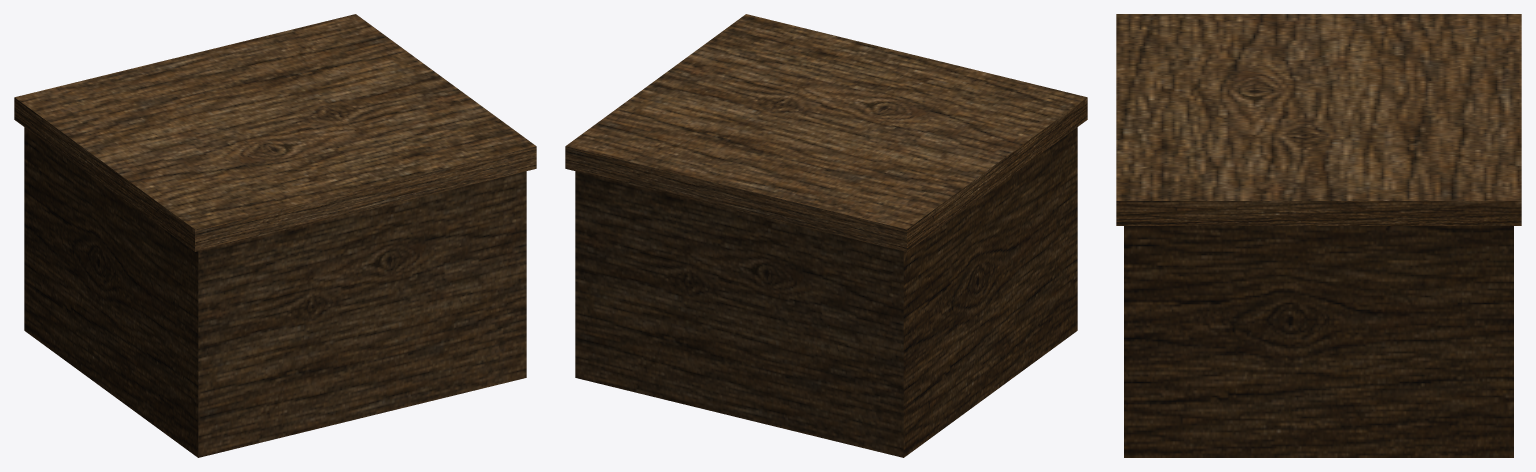
File: mm9_deco_box01.glb
The picture shows the model from 3 angles, left to right: view 1: azimuth 30°, elevation 25°; view 2: azimuth 150°, elevation 25°; view 3: azimuth 270°, elevation 25°; orthographic projection. The views are drawn at different scales.
Parts seen in each view (by area): view 1: Box01; view 2: Box01; view 3: Box01.
Part boxes in pixels (<box>): Box01: <box>14,14,536,457</box>; Box01: <box>565,14,1087,457</box>; Box01: <box>1116,14,1521,457</box>.
Size of the model in its own units: 0.5543 by 0.3607 by 0.5083.
Materials: 1 (1 with a texture image).
